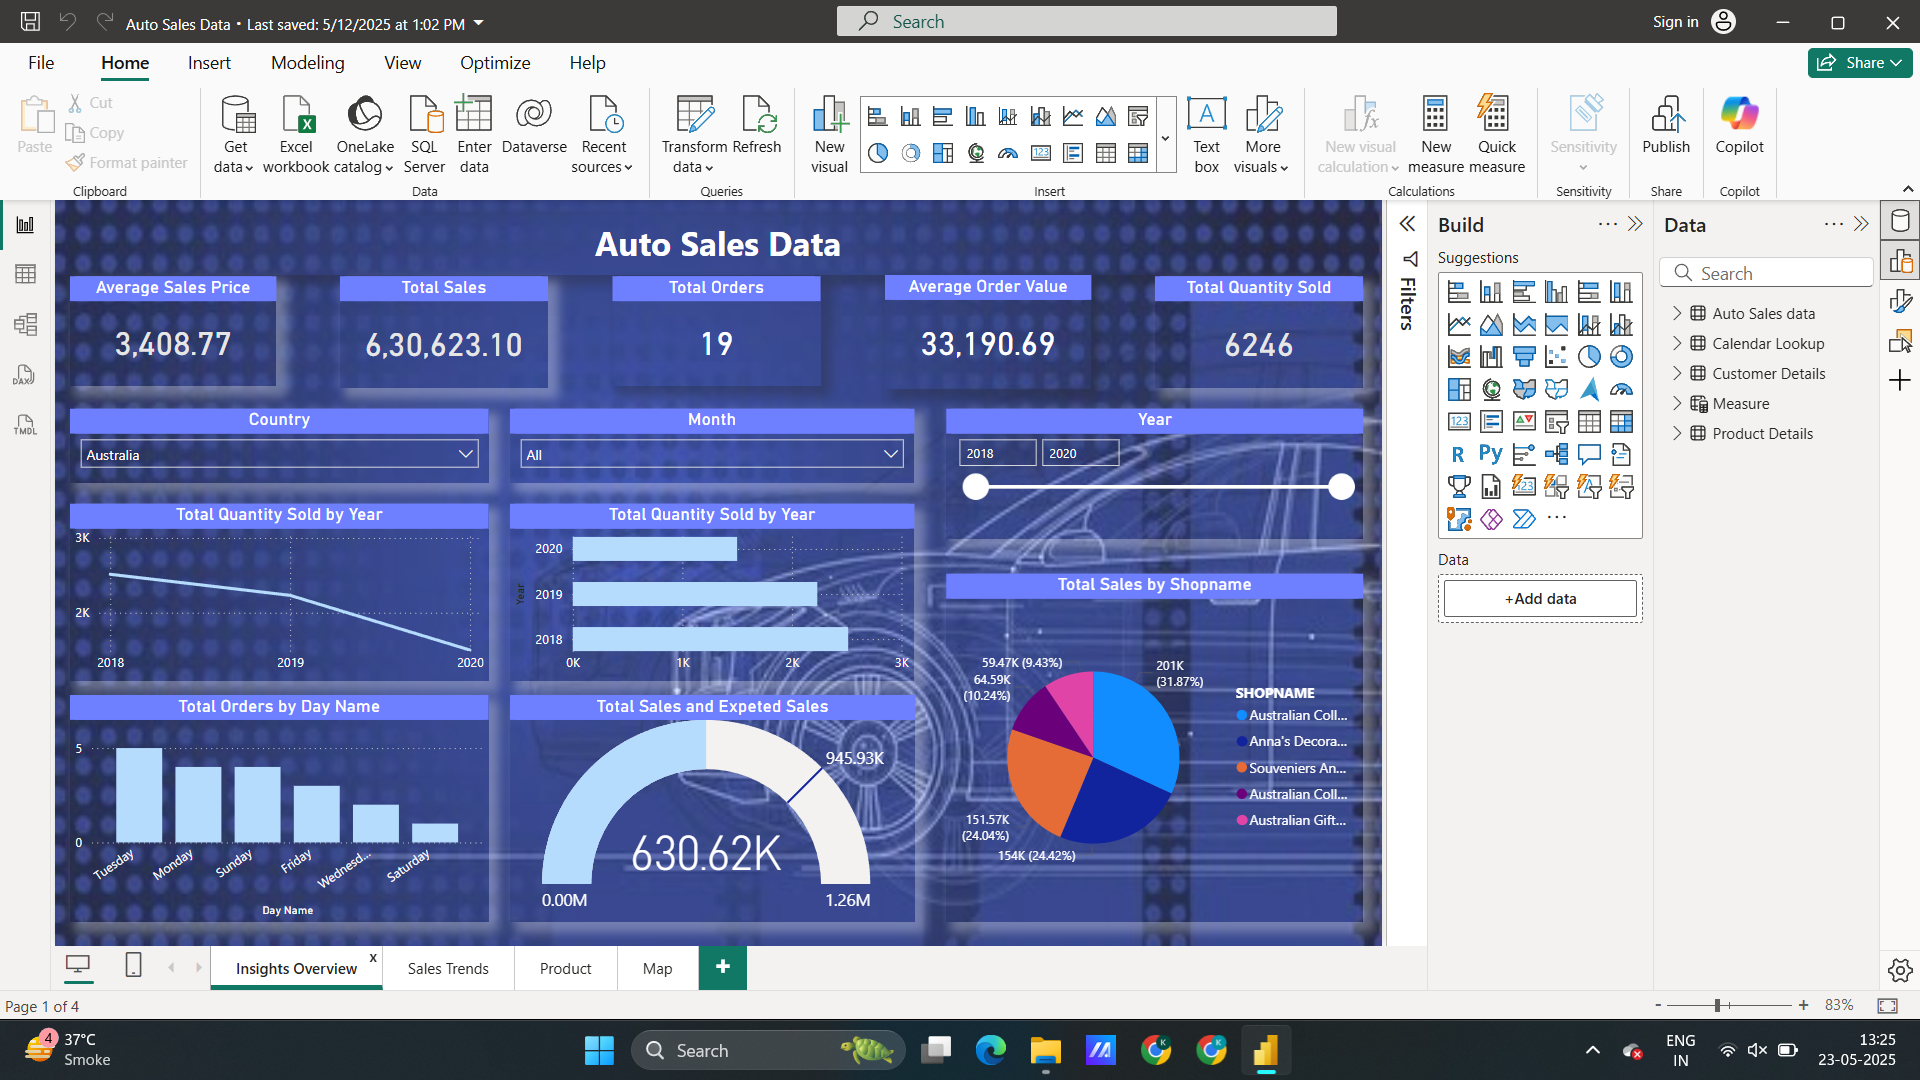

The dashboard page shown, as its layout file describes it:
{"tool":"powerbi","page":{"name":"Insights Overview","canvas":[1280,720],"ordinal":0},"visuals":[{"type":"textbox","box":[0,14.4,1279.7,57.7],"z":0},{"type":"card","title":"Total Sales","fields":{"Values":["Measure.Total Sales"]},"box":[275.6,73.6,200.5,108.2],"z":1000},{"type":"card","title":"Total Orders","fields":{"Values":["Measure.Total Orders"]},"box":[538.2,73.6,200.5,106.8],"z":2000},{"type":"lineChart","fields":{"Category":["Calendar Lookup.Year"],"Y":["Measure.Total Quantity Sold"]},"box":[14.3,292.9,404.3,171.4],"z":3000},{"type":"card","title":"Total Quantity Sold","fields":{"Values":["Measure.Total Quantity Sold"]},"box":[1061.9,73.6,200.5,108.2],"z":4000},{"type":"columnChart","fields":{"Category":["Calendar Lookup.Day Name"],"Y":["Measure.Total Orders"]},"box":[14.4,477.6,404,219.3],"z":5000},{"type":"clusteredBarChart","fields":{"Category":["Calendar Lookup.Year"],"Y":["Measure.Total Quantity Sold"]},"box":[438.6,292.9,390,171.4],"z":6000},{"type":"slicer","title":"Month","fields":{"Values":["Calendar Lookup.Month"]},"box":[438.6,201.4,390,71.4],"z":7000},{"type":"card","title":"Average Order Value","fields":{"Values":["Measure.Average Order Value"]},"box":[800.7,72.1,199.1,109.6],"z":8000},{"type":"slicer","title":"Year","fields":{"Values":["Calendar Lookup.Year"]},"box":[859.9,202,402.5,125.5],"z":9000},{"type":"slicer","title":"Country","fields":{"Values":["Customer Details.COUNTRY"]},"box":[14.3,201.4,404.3,71.4],"z":10000},{"type":"card","title":"Average Sales Price","fields":{"Values":["Measure.Average Sale Price"]},"box":[14.4,73.6,199.1,106.8],"z":11000},{"type":"pieChart","title":"Total Sales by Shopname","fields":{"Y":["Measure.Total Sales"],"Category":["Auto Sales data.SHOPNAME"]},"box":[859.9,360.7,402.5,336.2],"z":12000},{"type":"gauge","fields":{"Y":["Measure.Total Sales"],"TargetValue":["Measure.Expeted Sales"]},"box":[438.6,477.6,391,219.3],"z":13000}]}

Visuals, with their boxes on the page's 1280x720 design canvas (x1, y1, x2, y2). These are canvas units, not pixel positions in the 1920x1080 screenshot, which may show the page scaled, cropped or inside an application window:
textbox: locate(0, 14, 1280, 72)
"Total Sales" card: locate(276, 74, 476, 182)
"Total Orders" card: locate(538, 74, 739, 180)
lineChart - Calendar Lookup.Year x Measure.Total Quantity Sold: locate(14, 293, 419, 464)
"Total Quantity Sold" card: locate(1062, 74, 1262, 182)
columnChart - Calendar Lookup.Day Name x Measure.Total Orders: locate(14, 478, 418, 697)
clusteredBarChart - Calendar Lookup.Year x Measure.Total Quantity Sold: locate(439, 293, 829, 464)
"Month" slicer: locate(439, 201, 829, 273)
"Average Order Value" card: locate(801, 72, 1000, 182)
"Year" slicer: locate(860, 202, 1262, 328)
"Country" slicer: locate(14, 201, 419, 273)
"Average Sales Price" card: locate(14, 74, 214, 180)
"Total Sales by Shopname" pieChart: locate(860, 361, 1262, 697)
gauge - Measure.Total Sales x Measure.Expeted Sales: locate(439, 478, 830, 697)
